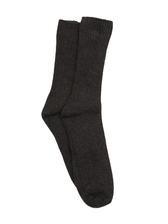sock: (41, 13, 116, 214)
